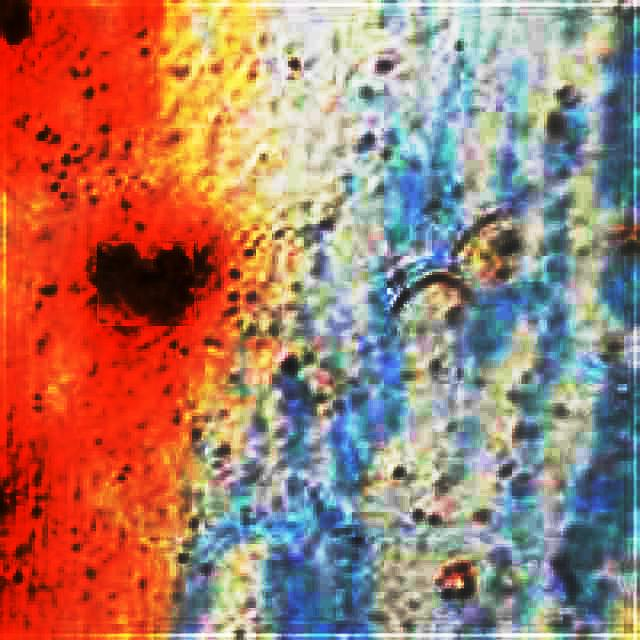Corrosion: (0, 0, 222, 638)
